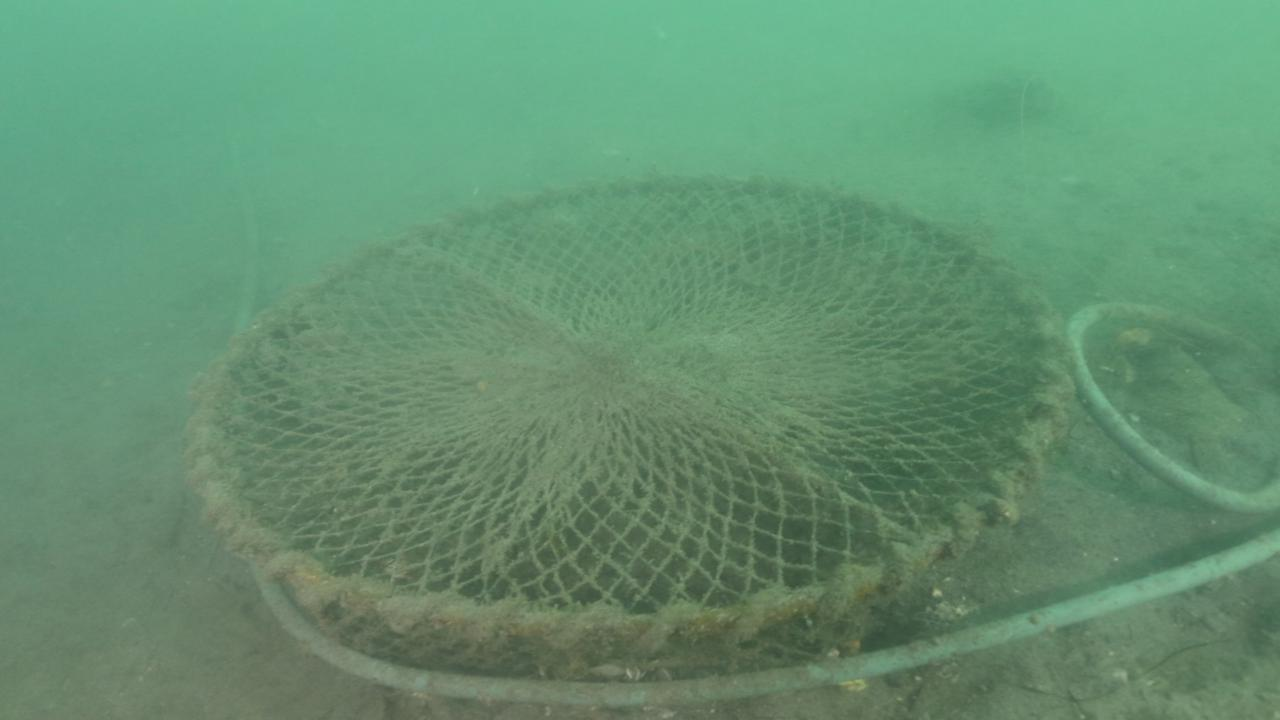circular fish trap: (186, 176, 1063, 683)
